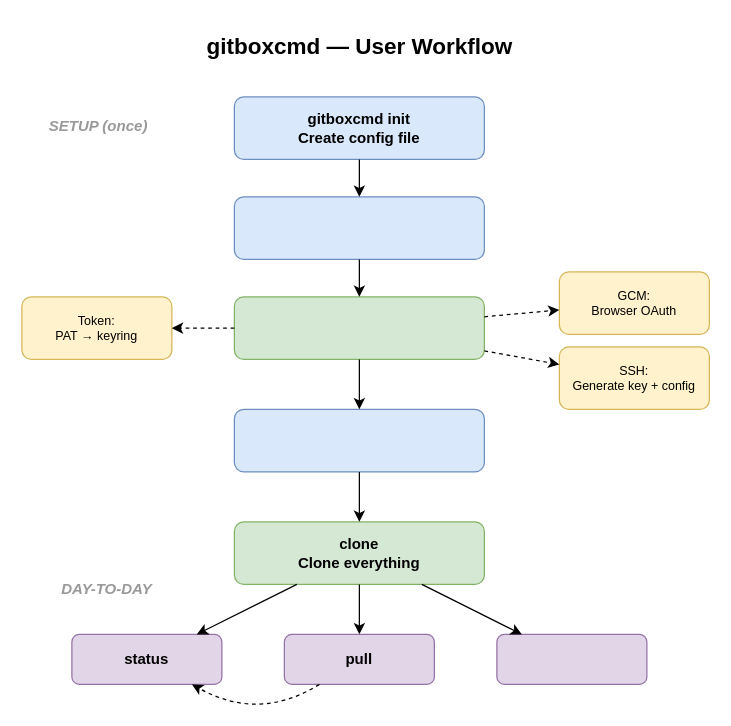
Image size: 731x726. Some labels were removed from this diagram. Each missing label, with the centre of its shape:
account add Define your identities: point 358,227
account discover Find repos from API: point 358,440
credential setup Store credentials: point 358,327
scan: point 571,658
